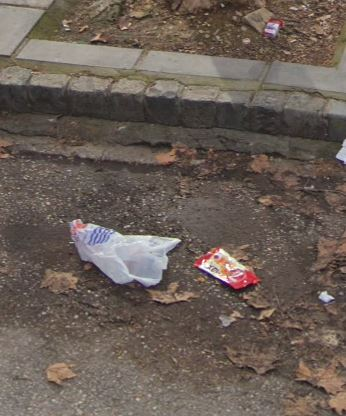trash: (55, 212, 184, 294), (193, 243, 261, 296), (261, 13, 292, 46)
